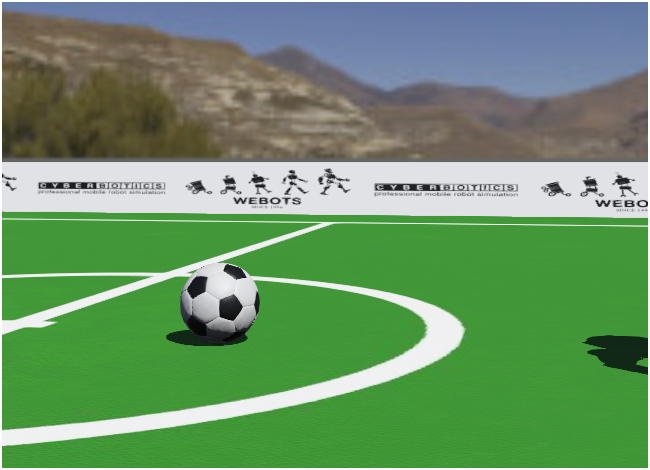Ball: (117, 244, 324, 370)
